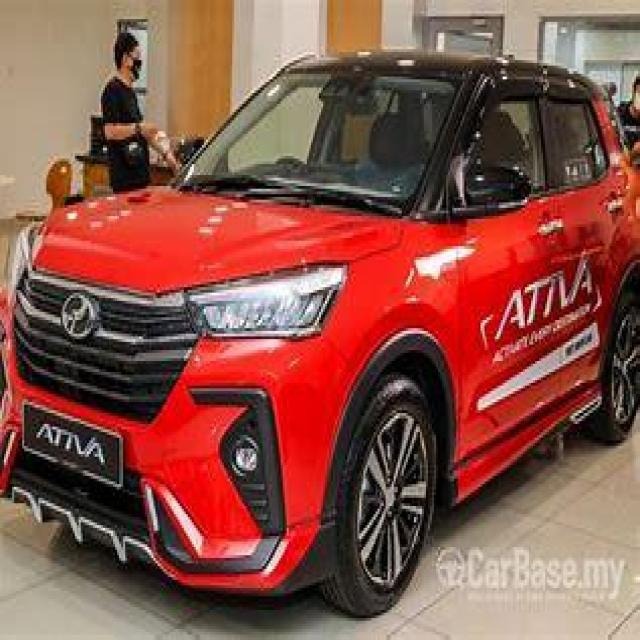PeroduaAtiva: (1, 48, 638, 618)
